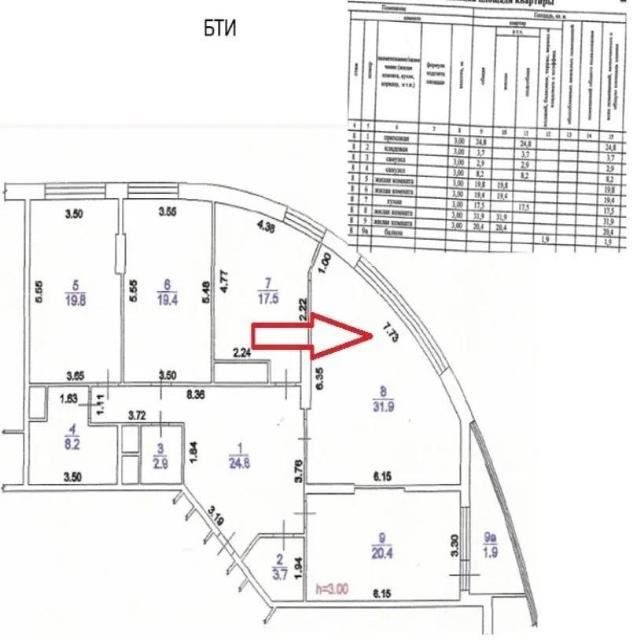Corridors: (91, 386, 303, 556), (470, 428, 524, 593), (245, 539, 303, 601), (141, 427, 180, 483)
Doors: (449, 561, 483, 590), (275, 367, 297, 403), (272, 518, 294, 553), (151, 367, 172, 403), (97, 368, 119, 401), (292, 500, 317, 528), (76, 391, 100, 419), (297, 418, 313, 459), (215, 531, 238, 557), (150, 410, 170, 439)
LBwalls: (0, 200, 221, 537), (231, 551, 460, 610), (439, 367, 475, 507), (179, 182, 287, 222), (106, 182, 128, 275), (321, 229, 362, 269), (460, 590, 494, 635), (2, 183, 45, 202), (301, 347, 311, 410), (306, 483, 355, 495), (404, 484, 460, 492)
Offices: (307, 245, 461, 485), (214, 202, 318, 382), (307, 489, 459, 601), (30, 200, 120, 382), (123, 200, 211, 382), (30, 388, 117, 484)
Walls: (171, 201, 275, 387), (87, 417, 151, 485), (118, 274, 152, 386), (29, 381, 98, 422), (293, 528, 307, 601), (169, 421, 185, 484), (241, 532, 272, 561), (307, 242, 322, 280), (308, 280, 312, 349), (262, 609, 275, 626), (237, 577, 249, 594), (184, 506, 196, 523), (355, 485, 404, 489), (171, 491, 184, 506), (202, 530, 214, 546), (225, 562, 237, 576), (492, 593, 525, 598), (2, 429, 24, 435), (304, 459, 307, 500), (304, 409, 308, 419), (296, 382, 301, 387)
Windows: (470, 420, 539, 628), (353, 254, 449, 376), (283, 205, 327, 243), (45, 183, 106, 200), (127, 182, 178, 200), (460, 507, 471, 561)
